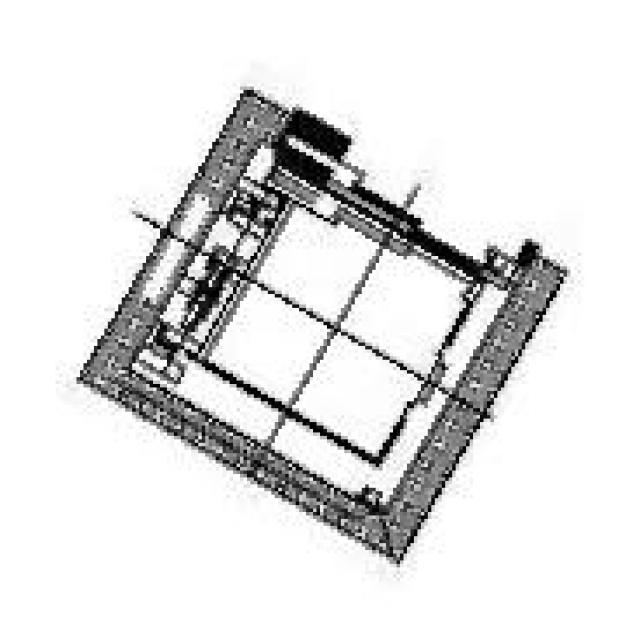lift: (73, 86, 564, 554)
